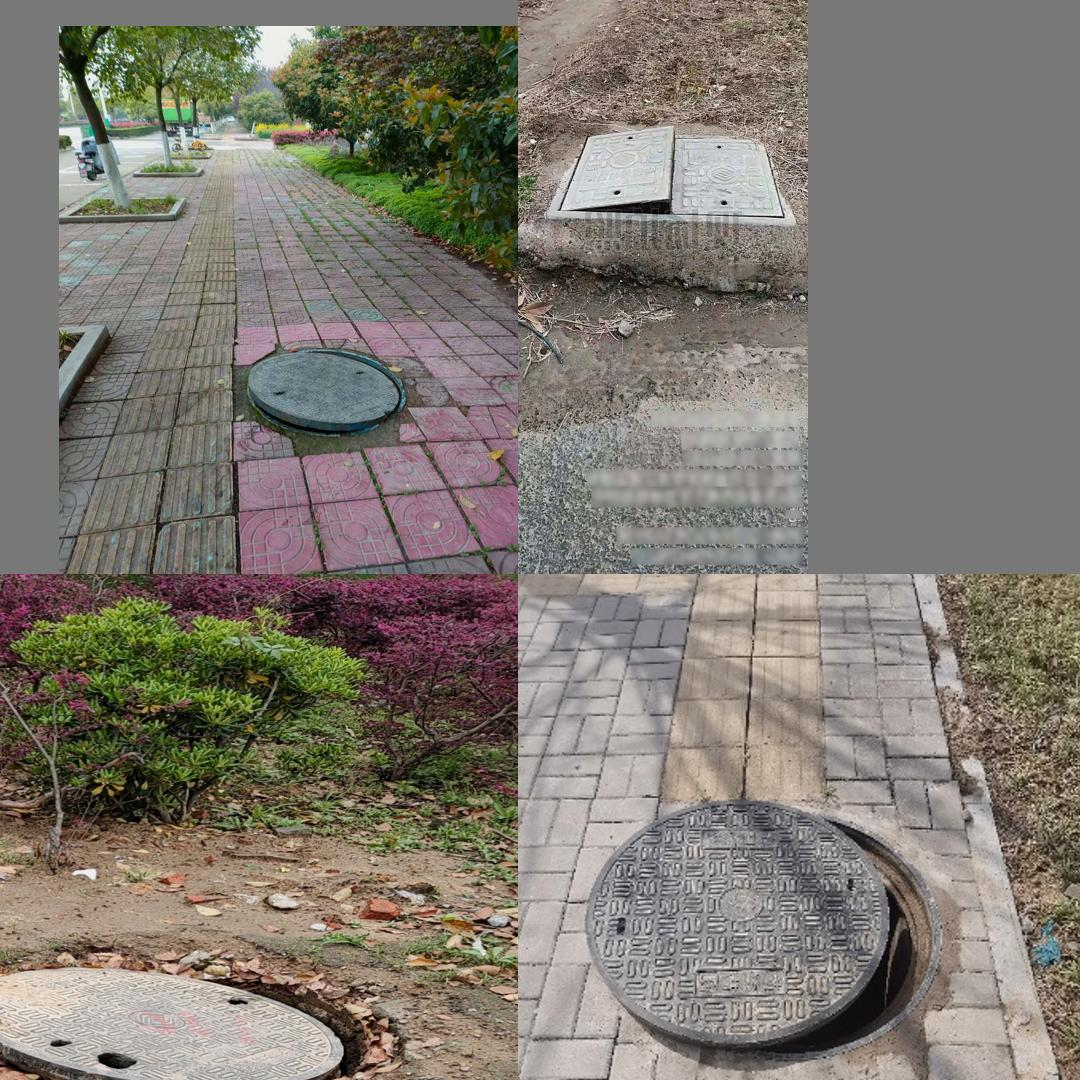uncovered: (588, 797, 950, 1050), (0, 965, 396, 1080), (543, 126, 797, 224), (234, 344, 437, 441)
